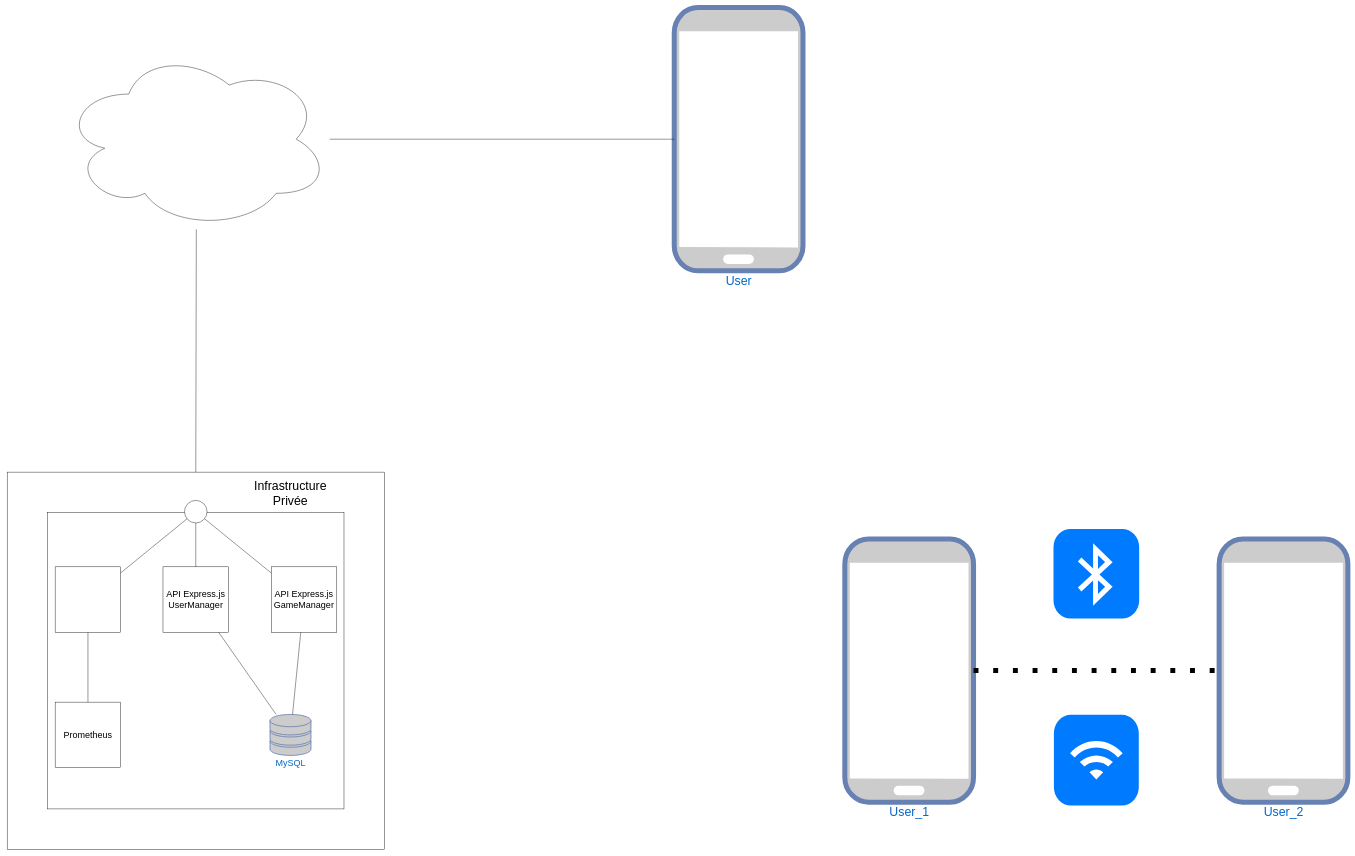
Some shapes in this 1355 by 856 pixel diagram are drawn without their labels. Here are the shapes that lost their labels. From the top down, the box of each, then its label:
(61, 49, 330, 229): Public Network
(184, 500, 207, 523): VNIC
(55, 566, 121, 632): Grafana
(47, 512, 344, 809): VM
